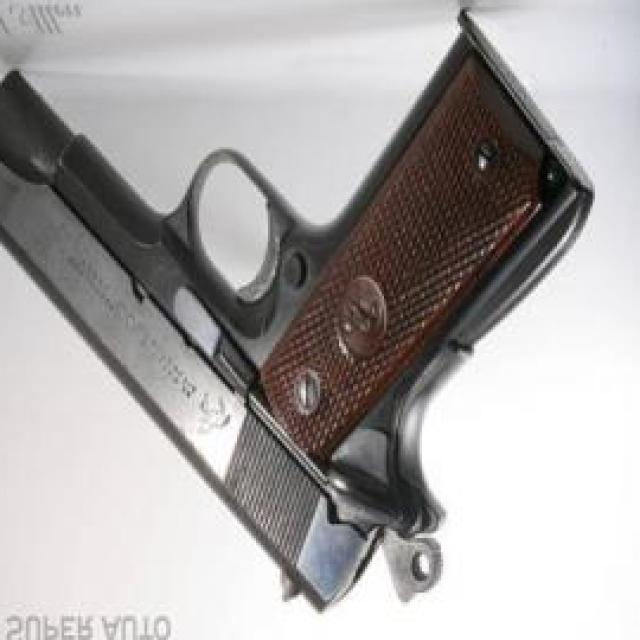pistol: (0, 5, 595, 616)
